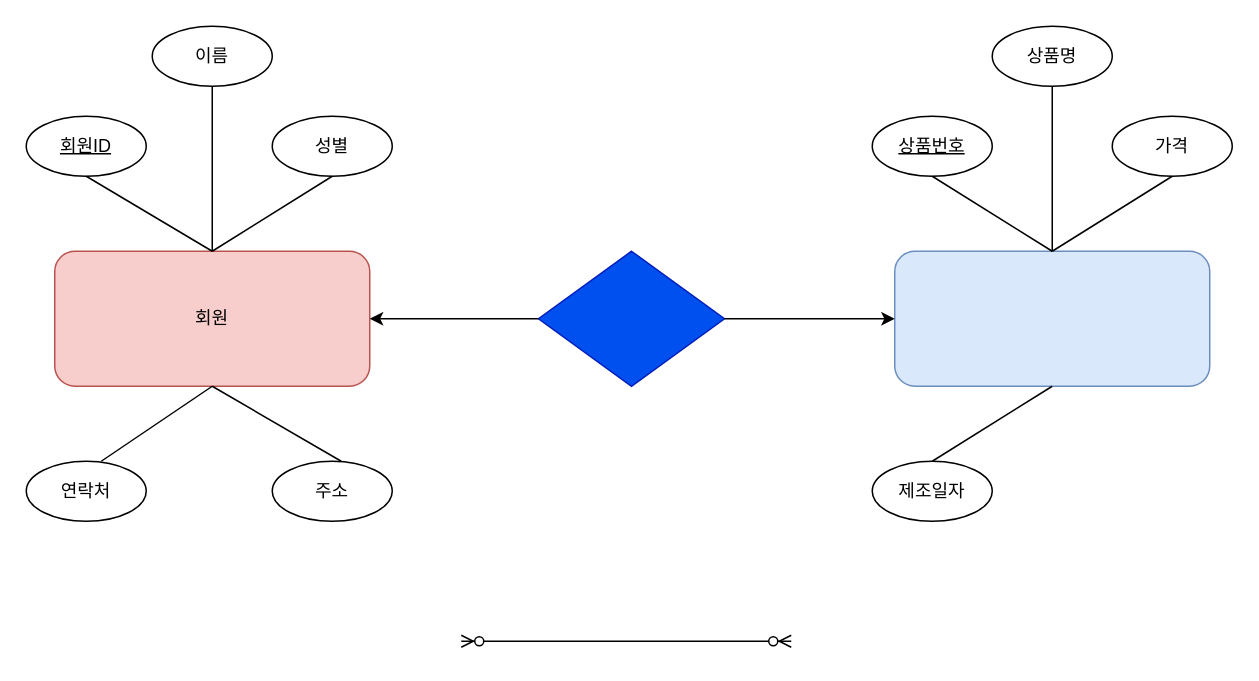
Some shapes in this 1259 by 681 pixel diagram are drawn without their labels. Here are the shapes that lost their labels. From the top down, the centre of each, then its label:
At [630,318]: "주문".
At [1051,318]: "상품".
